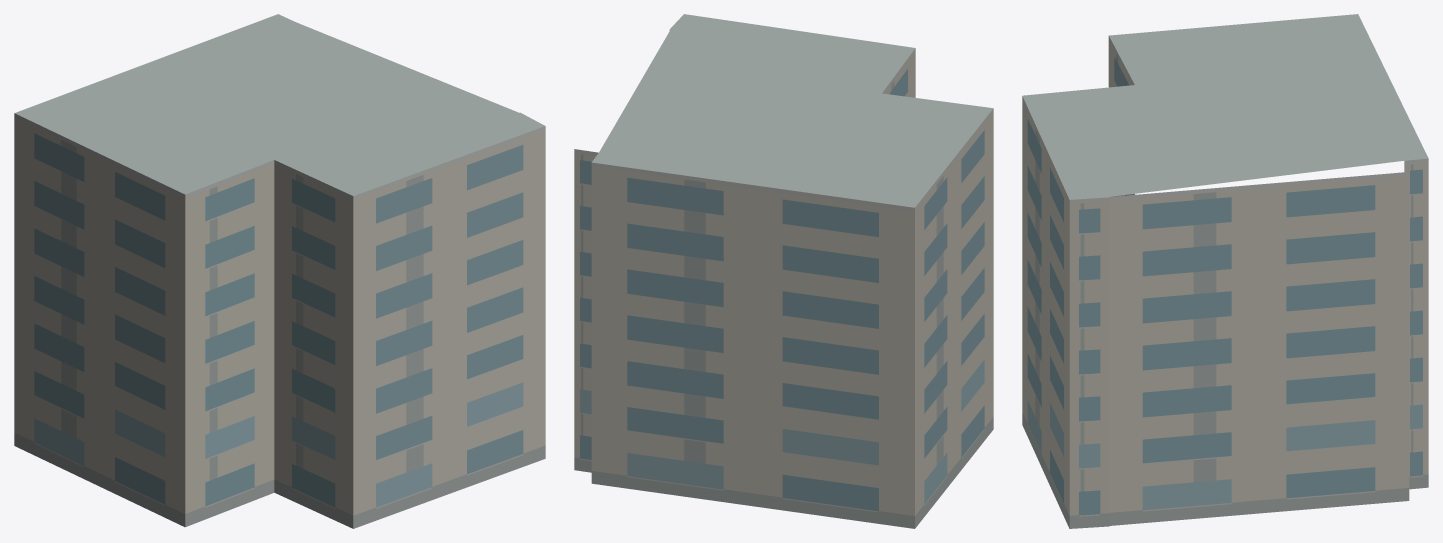
File: survey-upis-32720637.glb
3 views of the same model, side by side, from view 1: azimuth 30°, elevation 25°; view 2: azimuth 150°, elevation 25°; view 3: azimuth 270°, elevation 25° (orthographic). The views are drawn at different scales.
Visible parts, largest first — view 1: survey-upis-32720637.tmp; view 2: survey-upis-32720637.tmp; view 3: survey-upis-32720637.tmp.
Boxes of the visible parts, x1,y1,x2,y2 form: survey-upis-32720637.tmp: [14, 14, 545, 528]; survey-upis-32720637.tmp: [574, 14, 993, 528]; survey-upis-32720637.tmp: [1022, 14, 1428, 528].
Size of the model in its own units: 23.15 by 19.1 by 21.39.
